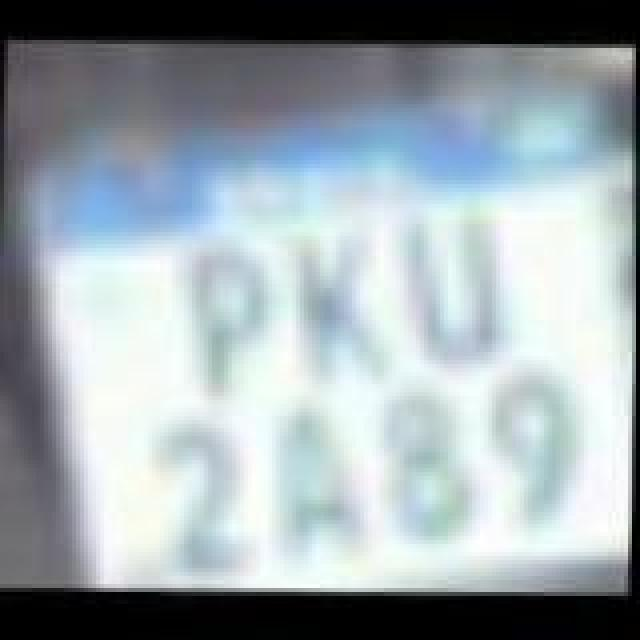2: (140, 424, 256, 584)
8: (372, 386, 484, 550)
9: (482, 364, 582, 532)
A: (268, 408, 376, 572)
K: (290, 224, 390, 388)
P: (184, 244, 272, 396)
U: (394, 206, 510, 370)
